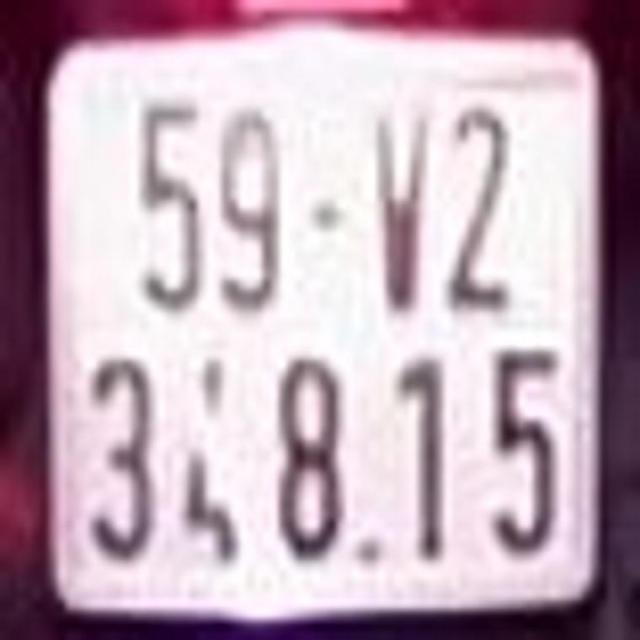1: (392, 359, 455, 560)
2: (443, 95, 520, 308)
3: (86, 358, 154, 562)
4: (178, 358, 252, 564)
5: (131, 102, 208, 308), (492, 348, 567, 546)
8: (272, 357, 342, 558)
9: (219, 106, 287, 311)
V: (373, 120, 435, 308)
